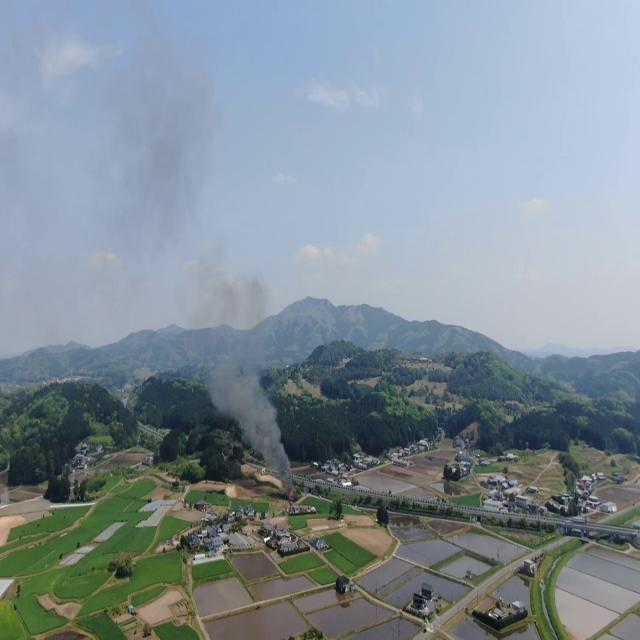Smoke: (192, 248, 290, 468)
